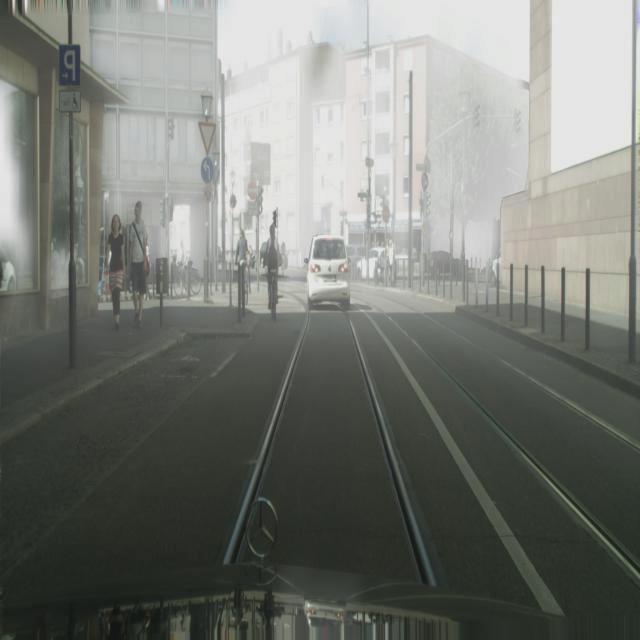car: (171, 256, 202, 299), (267, 225, 280, 321), (237, 229, 251, 318)
person: (129, 199, 150, 330), (106, 214, 125, 331), (178, 239, 187, 295), (387, 236, 395, 286)
truck: (306, 234, 351, 311), (428, 251, 462, 280), (359, 246, 386, 282), (346, 244, 364, 280), (489, 248, 501, 288)
